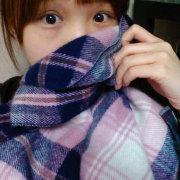WRONG: (28, 4, 118, 88)
